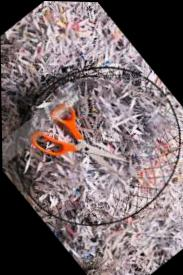paper: (0, 0, 183, 275), (1, 54, 174, 230)
